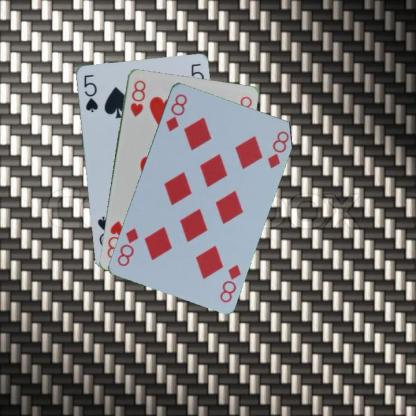5s: (81, 72, 99, 113)
8d: (217, 261, 242, 303), (163, 91, 188, 132)
8h: (127, 77, 147, 118)
